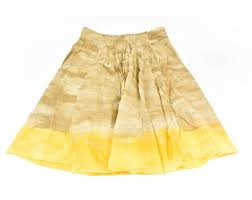C_skirt: (6, 20, 249, 179)
